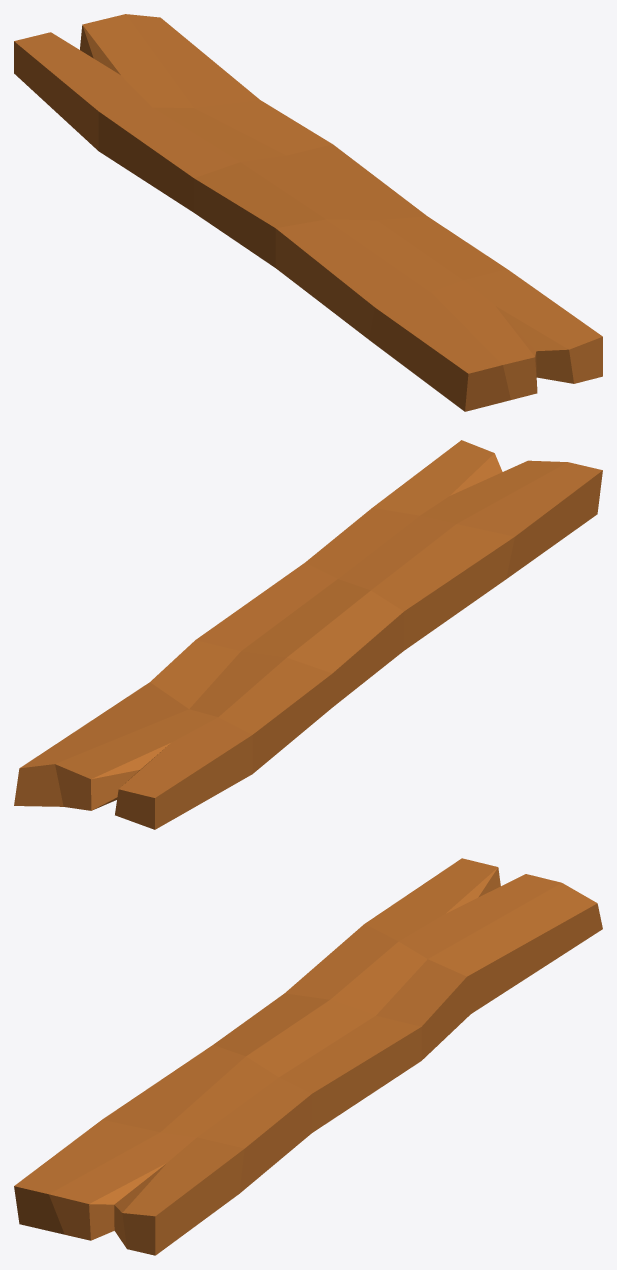
The model's file is GGJ_Wood.fbx.
3 views of the same model, one above another, from view 1: azimuth 30°, elevation 25°; view 2: azimuth 150°, elevation 25°; view 3: azimuth 330°, elevation 25° (orthographic).
Visible parts, largest first — view 1: Wood; view 2: Wood; view 3: Wood.
Boxes of the visible parts, left/top/right/bottom form: Wood: left=14, top=14, right=602, bottom=411; Wood: left=14, top=440, right=602, bottom=829; Wood: left=14, top=858, right=602, bottom=1255.
Bounding box in the file's own units: 49.03 × 15.48 × 260.
Materials: 1 (1 with a texture image).
